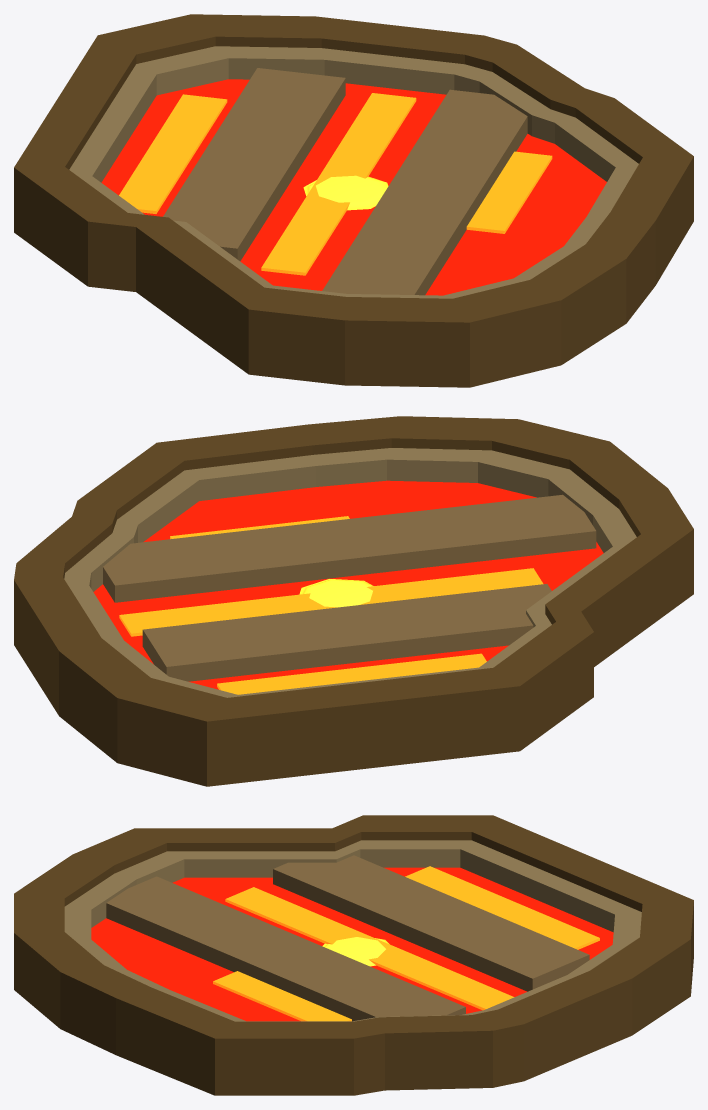
The model's file is newsha-89.glb.
3 renders of one model, top to bottom at view 1: azimuth 30°, elevation 25°; view 2: azimuth 150°, elevation 25°; view 3: azimuth 270°, elevation 25°, orthographic. The views are drawn at different scales.
Parts seen in each view (by area): view 1: newsha-89; view 2: newsha-89; view 3: newsha-89.
Part boxes in pixels (<box>): newsha-89: <box>14,14,693,387</box>; newsha-89: <box>14,416,693,786</box>; newsha-89: <box>14,815,693,1095</box>.
Bounding box in the file's own units: 1.42 × 0.17 × 1.83.
